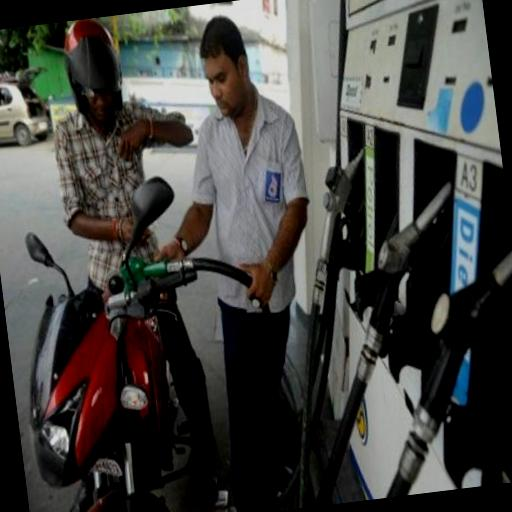helmet: (14, 10, 221, 488)
